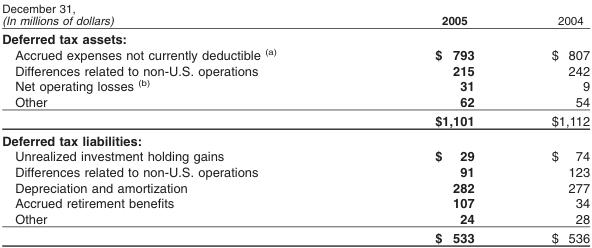table: (1, 0, 589, 244)
table column: (1, 0, 355, 244), (355, 0, 512, 244), (512, 0, 589, 244)
table column header: (1, 0, 589, 29)
table projected row header: (1, 29, 589, 46), (1, 130, 589, 147)
table row: (1, 0, 589, 29), (1, 110, 589, 130), (1, 29, 589, 46), (1, 93, 589, 110), (1, 130, 589, 147), (1, 210, 589, 227), (1, 227, 589, 244), (1, 46, 589, 62), (1, 77, 589, 93), (1, 147, 589, 163), (1, 163, 589, 179), (1, 194, 589, 210), (1, 62, 589, 77), (1, 179, 589, 194)
